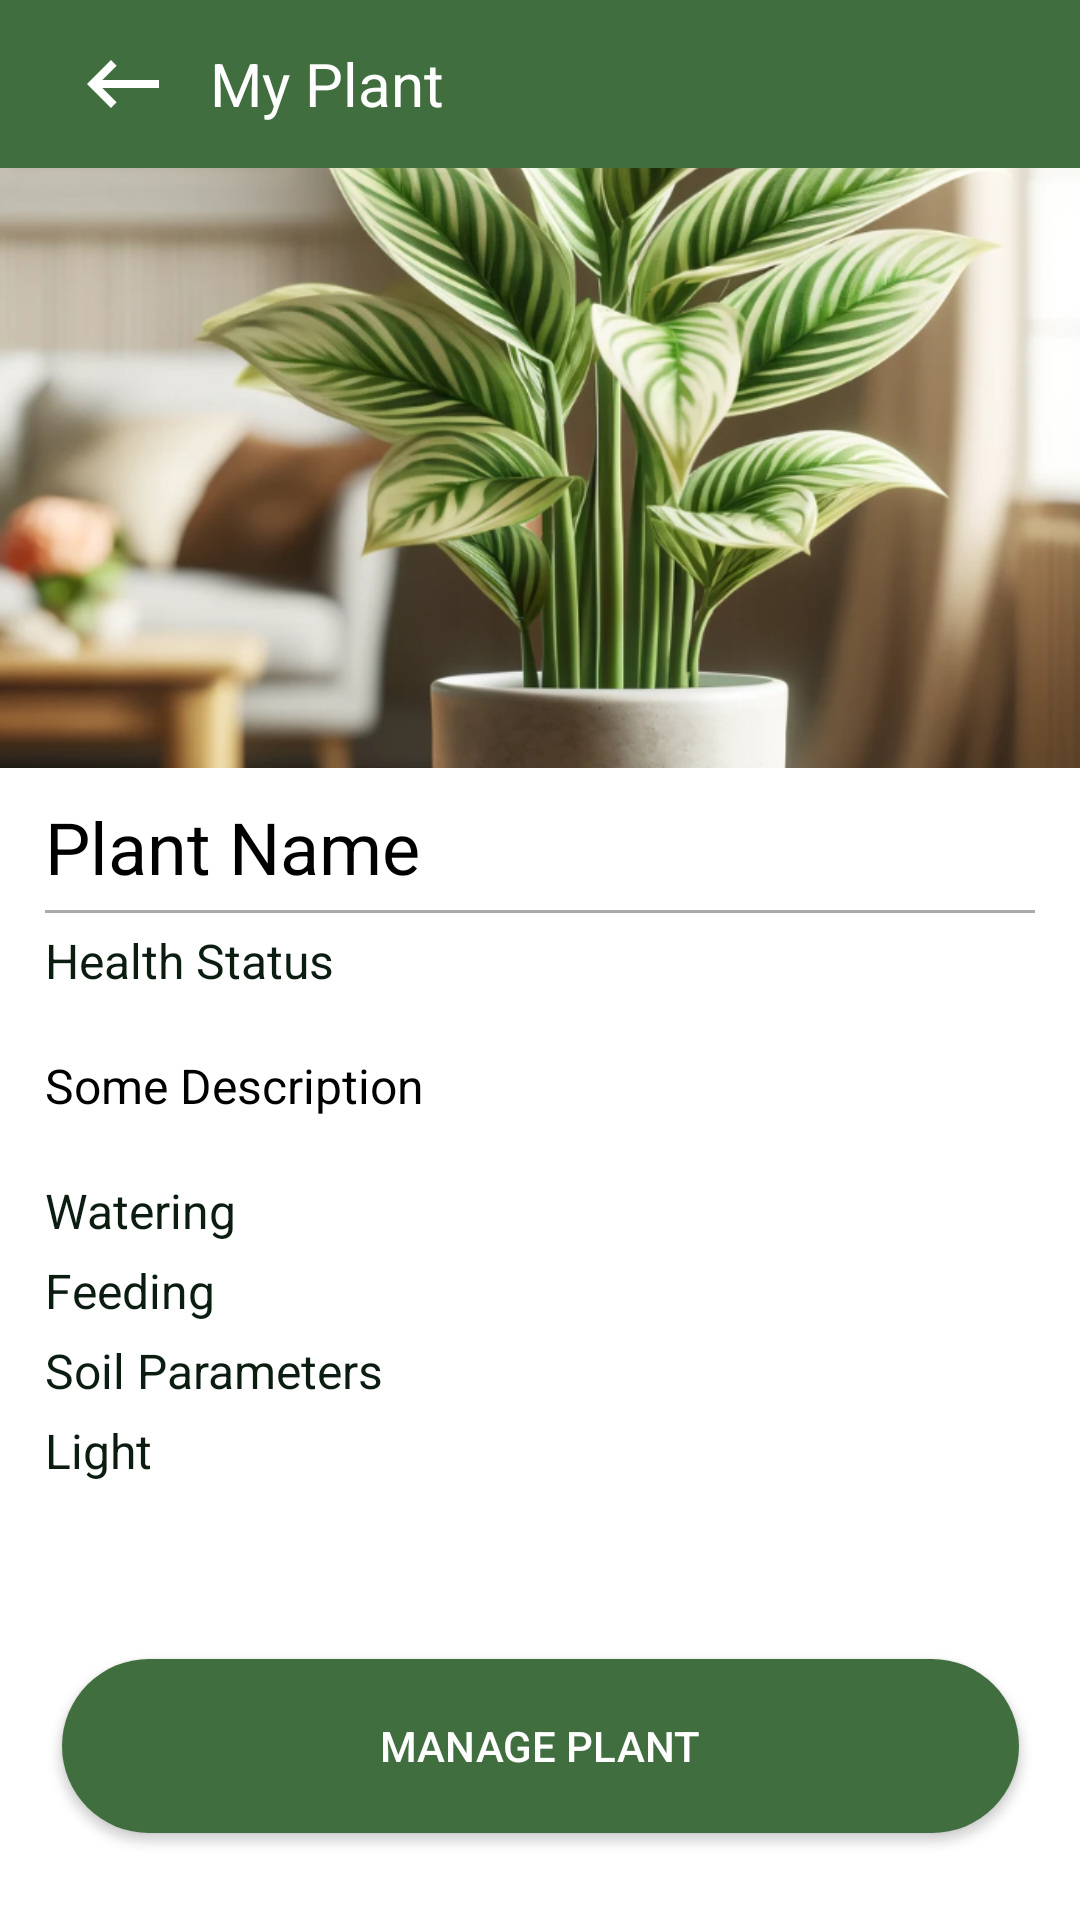

Icons on this 1080 × 1920 Android screen, each with the point to tap as point (x, y):
Back button: point (123, 84)
